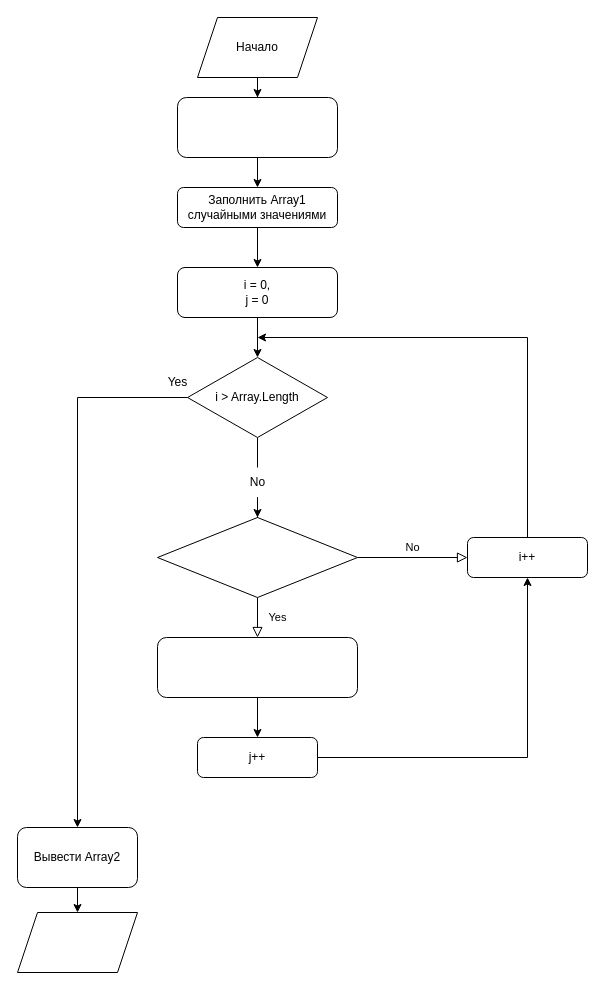
This 605x990 diagram has some shape labels left out. The shapes that lost their labels are listed below. From the top down, each one's box as (x1, y1, x2, y2) in pixels, then its label:
(176, 96, 338, 158): Создать Array1 из N элементов. Создать Array2
(156, 516, 358, 598): Символов в i-том элементе Array1 <= 3
(156, 636, 358, 698): Array2(j) = Array1(i)
(16, 912, 138, 972): Конец
